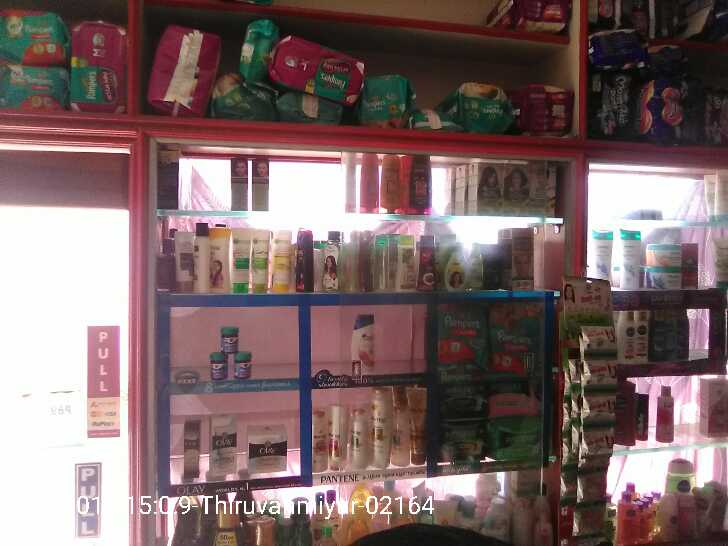vicks: (208, 321, 253, 382)
